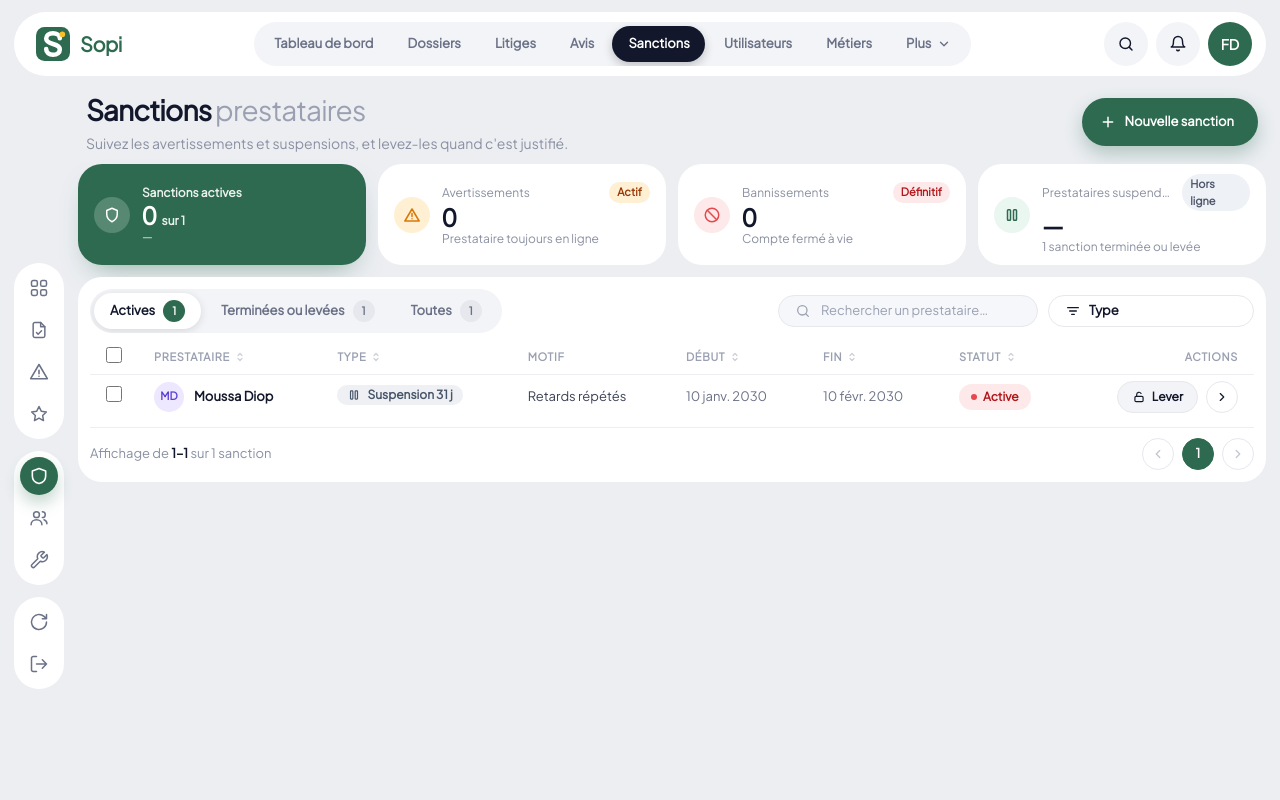
Test: sanctions › lève une sanction après confirmation (appel simulé)
The width and height of the screenshot is (1280, 800).
Click the button with aria-label "Lever la sanction de Moussa Diop": (1157, 396) [1117,380,1198,412]
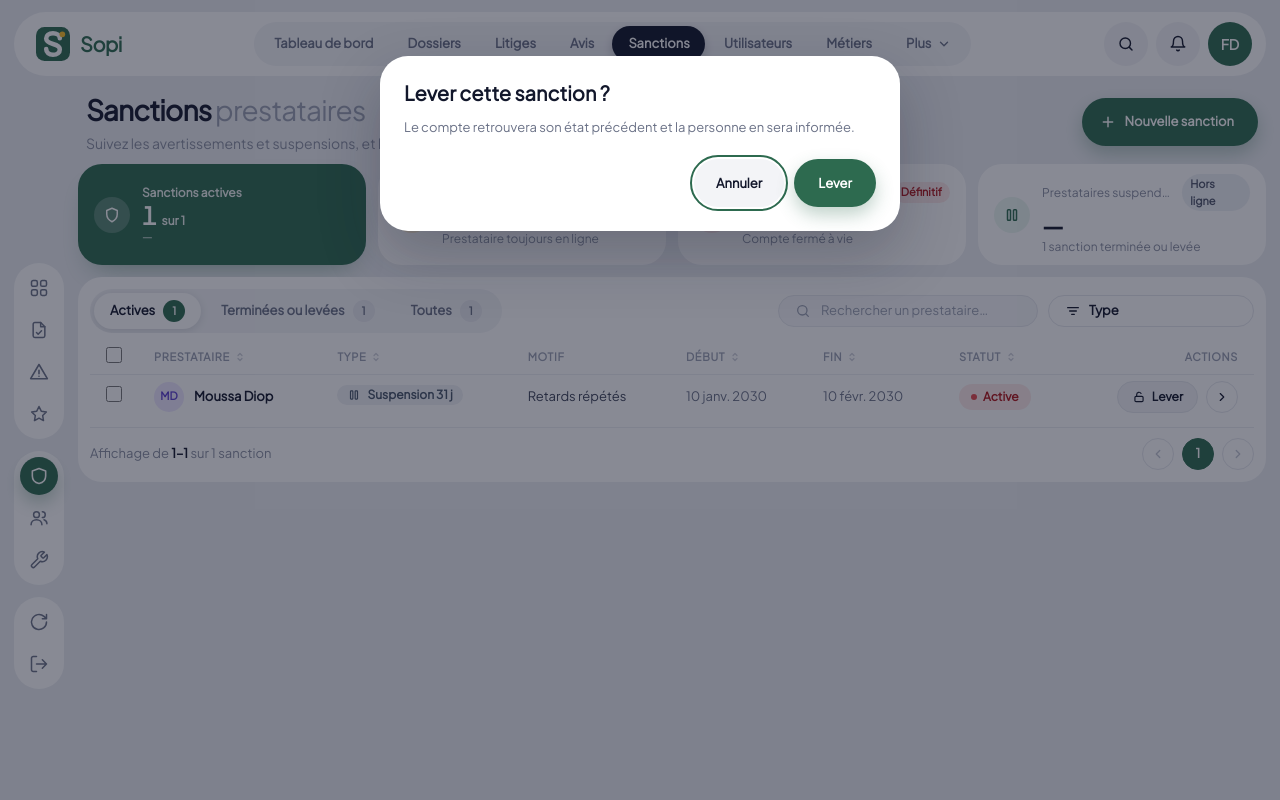
Click the button "Lever": (835, 183) [794,159,876,207]
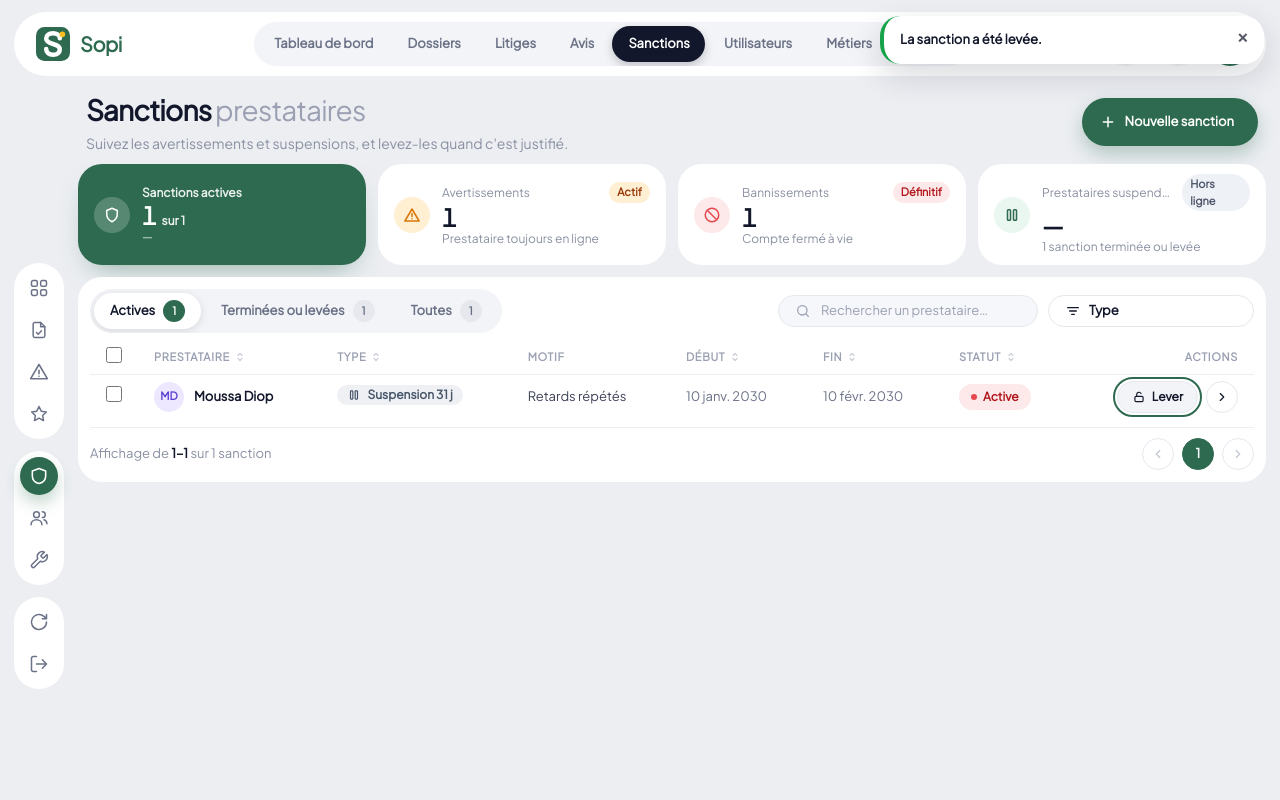
Now the text "La sanction a été levée." is shown, box [900,31,1042,47]
